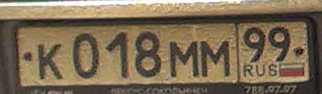character: (133, 29, 164, 79), (105, 27, 132, 81), (72, 32, 101, 81), (201, 38, 232, 81), (36, 41, 67, 83), (168, 39, 200, 78), (267, 27, 293, 62), (244, 27, 266, 63)
